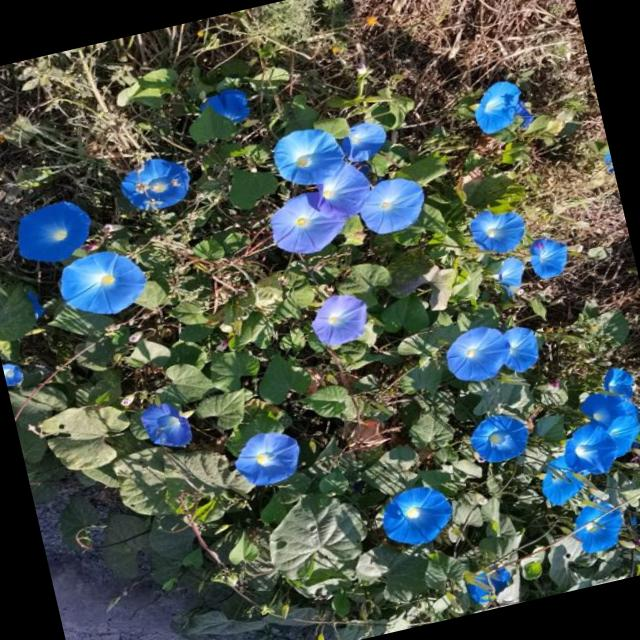ipomoea: (0, 4, 640, 640), (47, 240, 155, 328), (257, 183, 354, 265), (4, 191, 101, 272), (370, 476, 462, 555), (262, 118, 352, 196), (110, 146, 200, 220), (348, 167, 435, 242), (434, 316, 520, 391), (222, 421, 309, 495), (300, 284, 378, 354), (458, 404, 538, 471), (462, 71, 538, 141), (131, 390, 204, 458), (458, 198, 534, 262)
